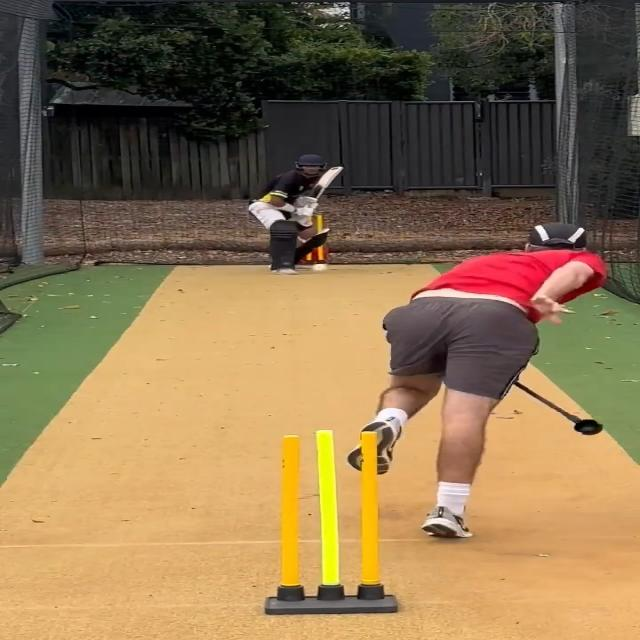ball: (310, 264, 328, 275)
stump: (261, 430, 397, 618)
